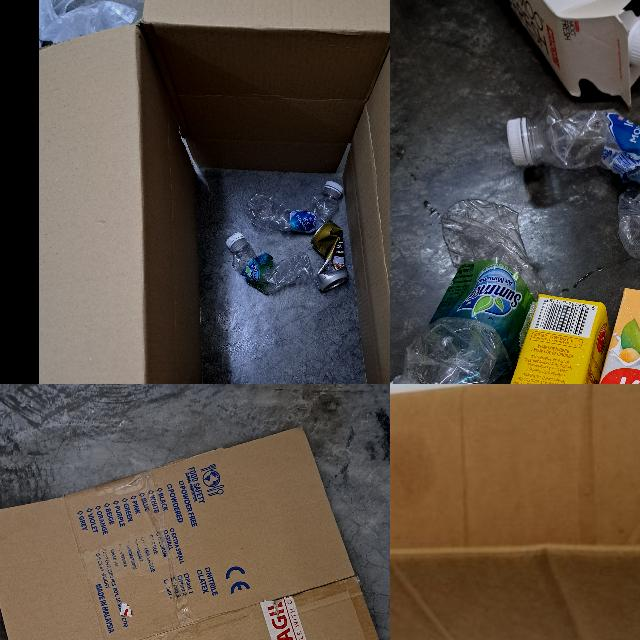caixinha: (484, 0, 640, 105), (463, 292, 611, 384)
garrafa plástica: (390, 195, 527, 384), (507, 106, 640, 265), (230, 247, 314, 299), (249, 190, 333, 234)
lata: (312, 221, 348, 291)
papelão: (39, 0, 390, 384), (0, 426, 390, 640), (390, 384, 640, 640)
tampa plástica: (509, 115, 538, 167), (627, 22, 640, 67), (225, 230, 243, 246), (328, 178, 342, 196)
